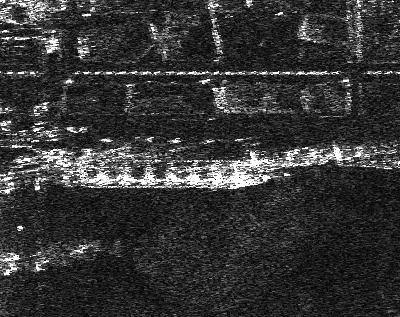ship: (55, 148, 277, 194)
